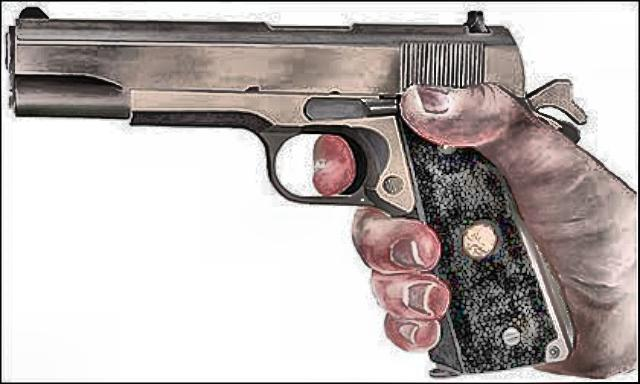pistol: (6, 3, 588, 373)
